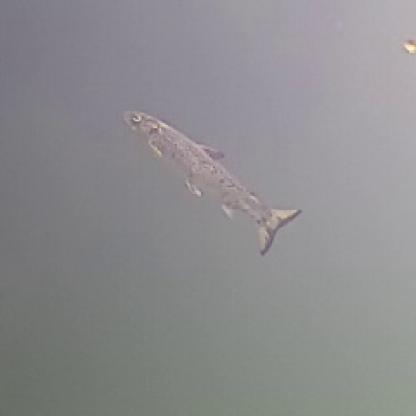salmon: (114, 102, 302, 255)
